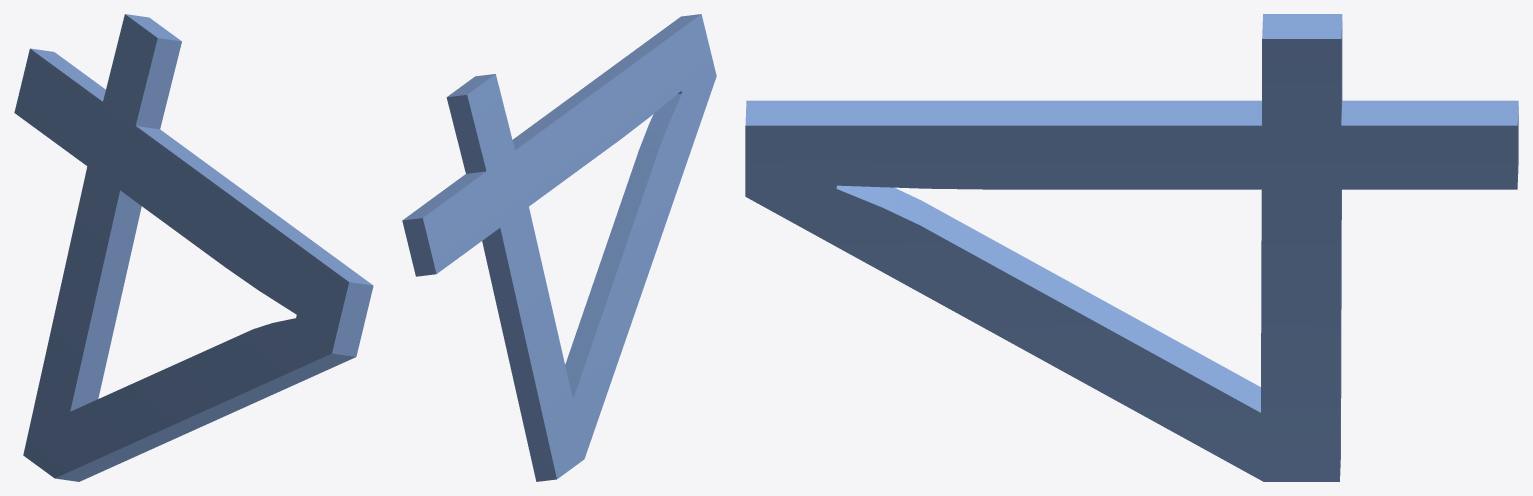
File: New_Number_4.gltf
3 renders of one model, left to right at view 1: azimuth 30°, elevation 25°; view 2: azimuth 150°, elevation 25°; view 3: azimuth 270°, elevation 25°, orthographic. The views are drawn at different scales.
Parts seen in each view (by area): view 1: Part 310; view 2: Part 310; view 3: Part 310.
Boxes of the visible parts, x1=… form: Part 310: x1=14, y1=14, x2=373, y2=481; Part 310: x1=402, y1=14, x2=716, y2=481; Part 310: x1=745, y1=14, x2=1518, y2=481.
Size of the model in its own units: 0.00126 by 0.00406 by 0.00553.
